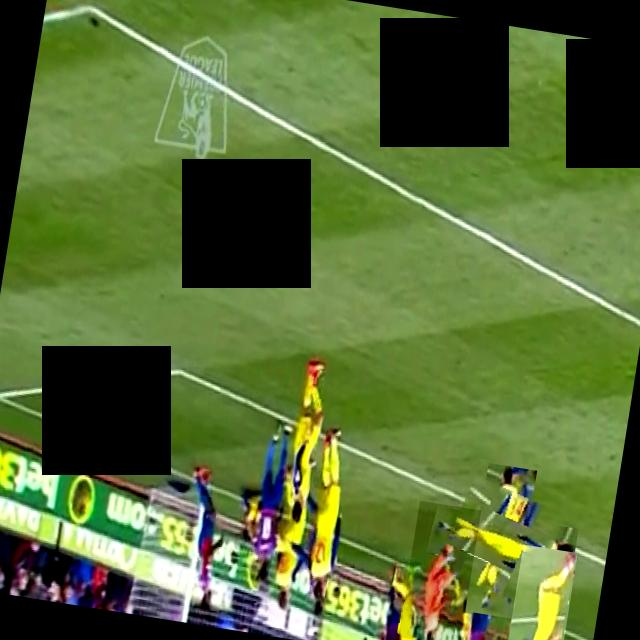goalkeeper: (398, 501, 481, 640)
soccer-player: (438, 478, 564, 604), (503, 544, 578, 640)
